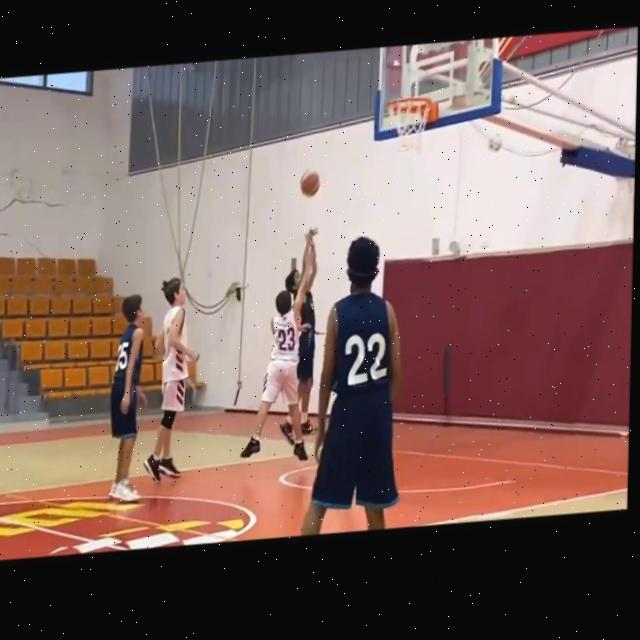basketball: (301, 166, 321, 201)
hoop: (384, 91, 436, 162)
